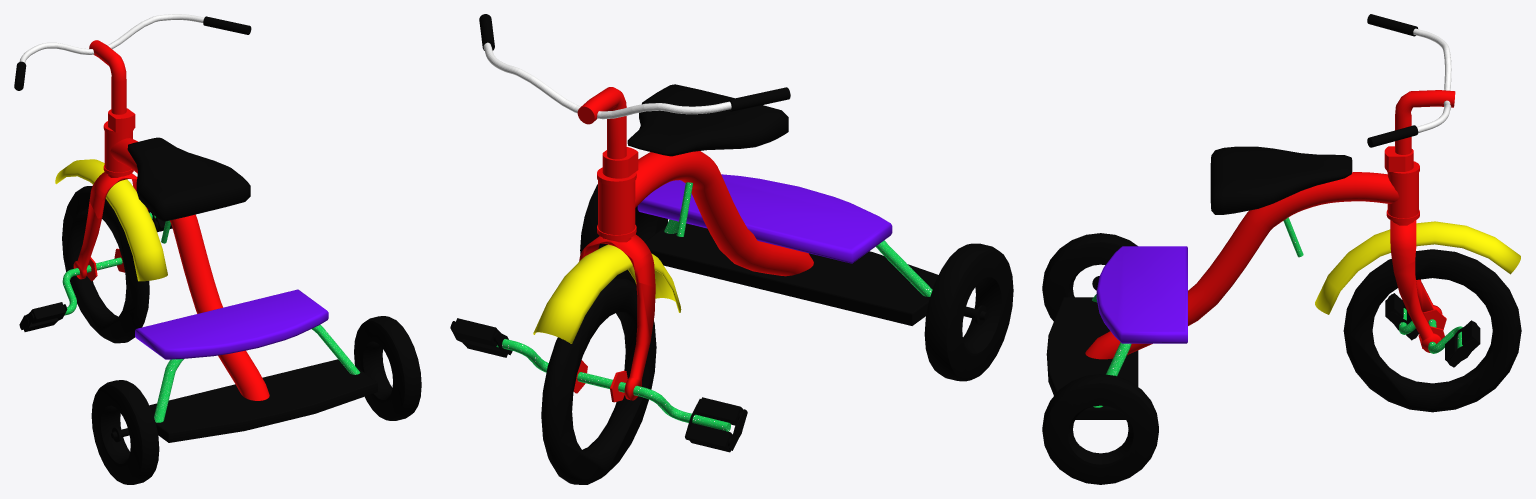
Rendered from P_Tricyle.fbx.
3 views of the same model, side by side, from view 1: azimuth 30°, elevation 25°; view 2: azimuth 150°, elevation 25°; view 3: azimuth 270°, elevation 25° (orthographic). The views are drawn at different scales.
Parts seen in each view (by area): view 1: _G-Object.001 (Loose Mesh).017; view 2: _G-Object.001 (Loose Mesh).017; view 3: _G-Object.001 (Loose Mesh).017.
Part boxes in pixels (left/top/right/bottom): _G-Object.001 (Loose Mesh).017: left=14, top=14, right=421, bottom=484; _G-Object.001 (Loose Mesh).017: left=450, top=14, right=1013, bottom=484; _G-Object.001 (Loose Mesh).017: left=1042, top=14, right=1521, bottom=484.
Size of the model in its own units: 0.5536 by 0.565 by 0.7312.
Materials: 1 (1 with a texture image).
